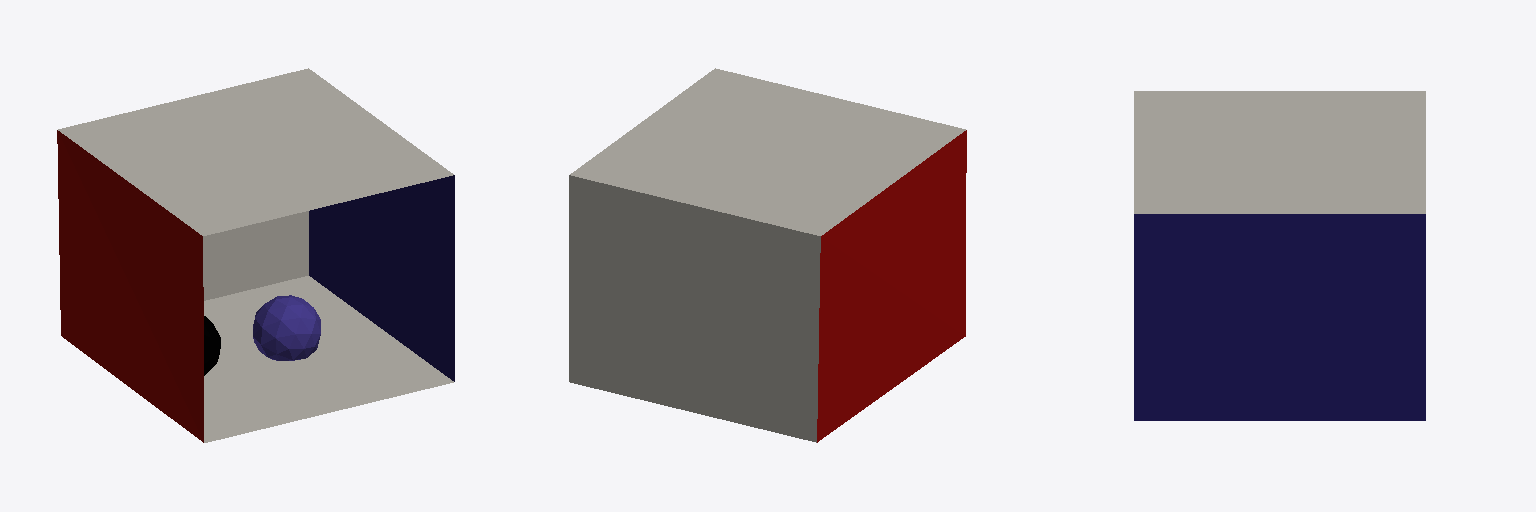
Rendered from CornellBox-Sphere-1282.obj.
3 renders of one model, left to right at view 1: azimuth 30°, elevation 25°; view 2: azimuth 150°, elevation 25°; view 3: azimuth 270°, elevation 25°, orthographic.
Visible parts, largest first — view 1: ceiling, leftWall, floor, rightWall, backWall, leftSphere, rightSphere; view 2: backWall, ceiling, leftWall; view 3: rightWall, ceiling.
Part boxes in pixels (x1,y1,x2,y2): ceiling: (58, 68, 453, 235); leftWall: (57, 130, 203, 442); floor: (204, 276, 453, 442); rightWall: (309, 175, 454, 381); backWall: (203, 211, 308, 300); leftSphere: (253, 295, 320, 360); rightSphere: (204, 316, 220, 375); backWall: (569, 175, 820, 442); ceiling: (570, 68, 965, 235); leftWall: (817, 130, 966, 442); rightWall: (1134, 214, 1425, 420); ceiling: (1134, 91, 1425, 213).
Bounding box in the file's own units: 2.02 × 1.59 × 2.03.